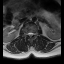CCS_normal: (29, 31, 31, 39)
LFS_stenosis: (33, 31, 35, 36)
LLS_normal: (31, 31, 33, 36)
RFS_stenosis: (26, 31, 28, 36)
RLS_normal: (27, 31, 29, 37)
